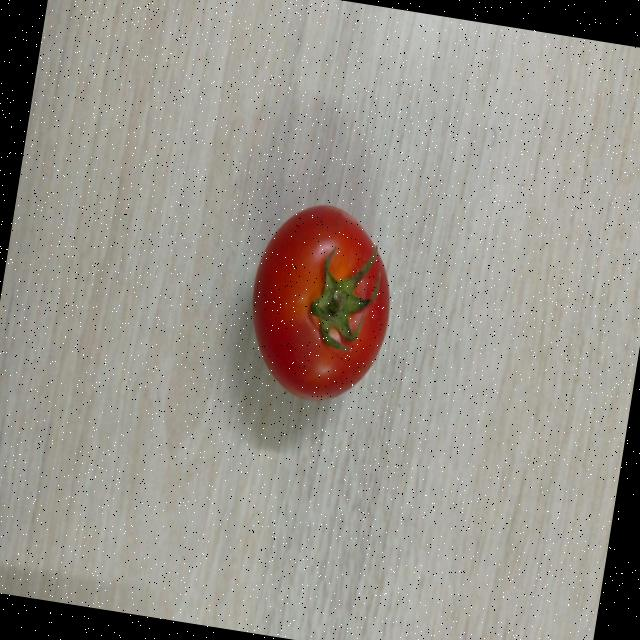Tomato: (236, 191, 409, 413)
